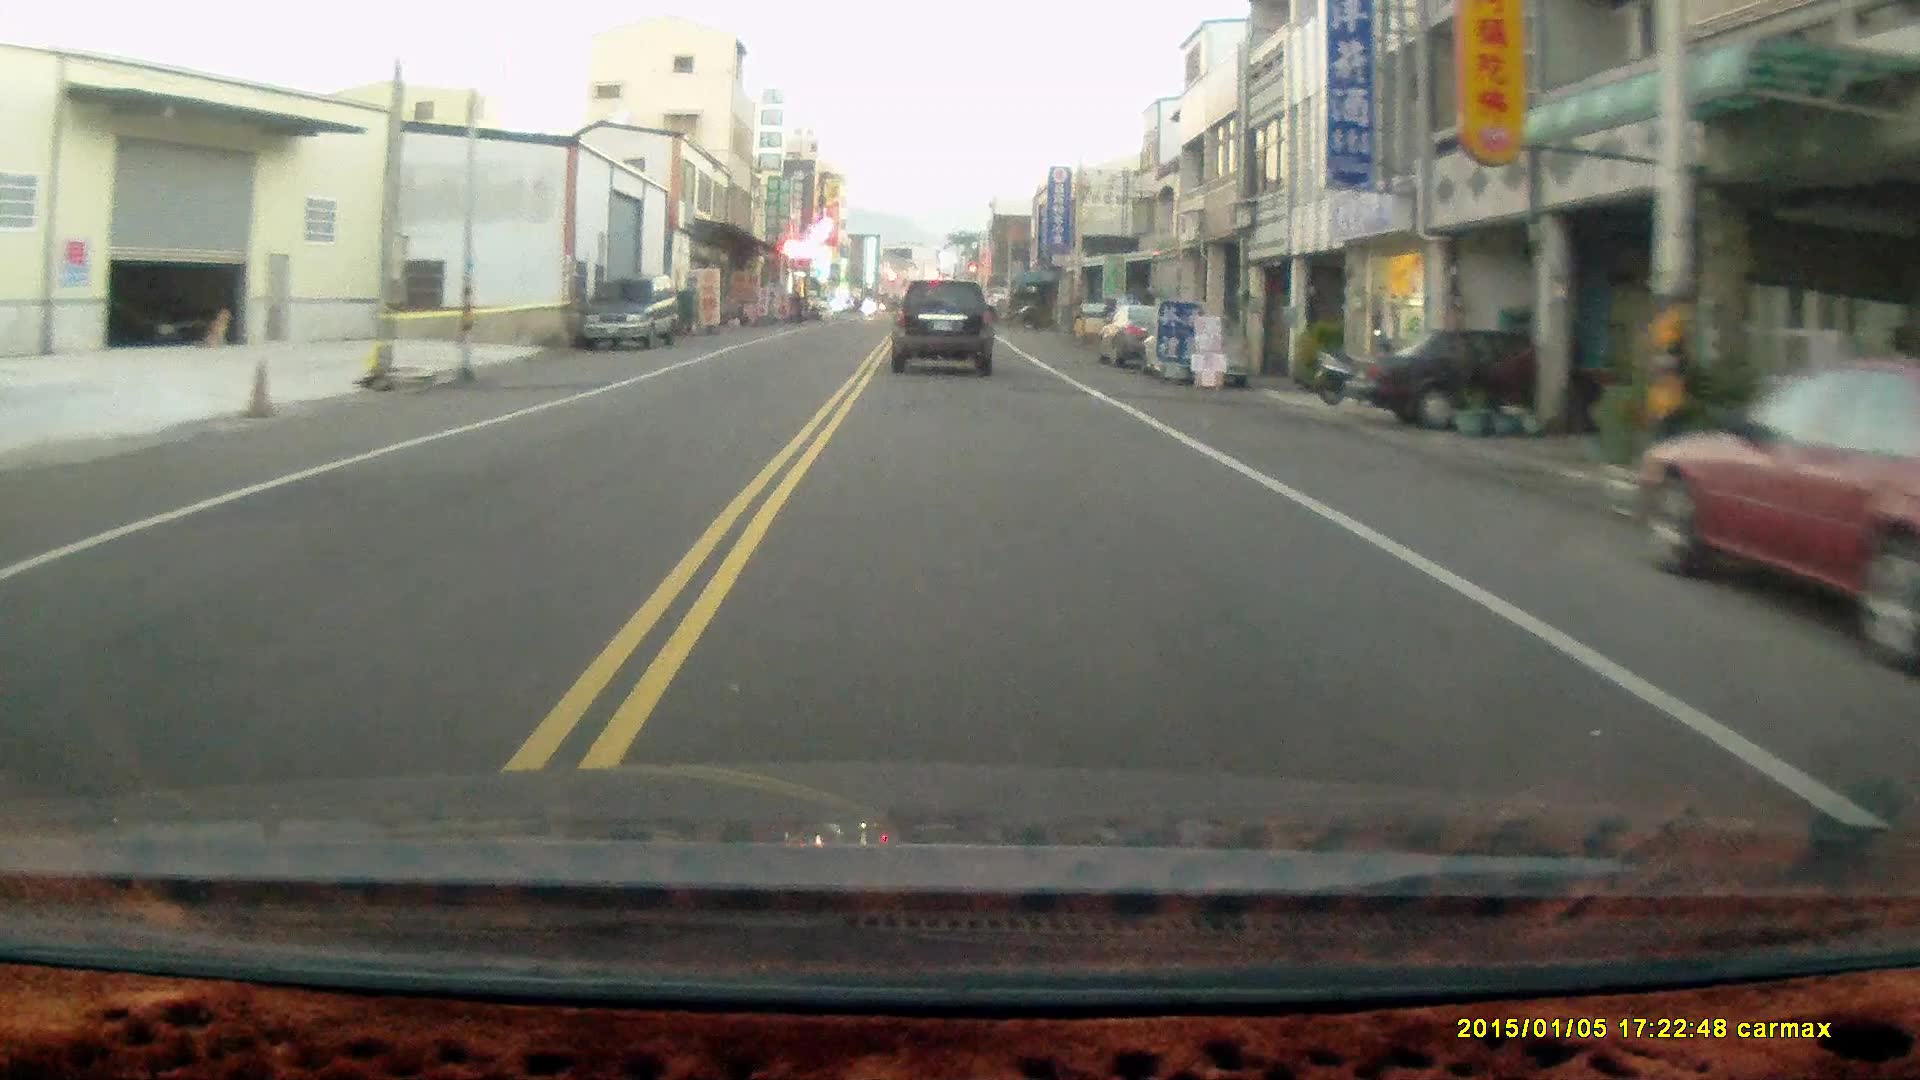vehicle: (1633, 349, 1920, 642), (1345, 327, 1654, 427), (890, 278, 996, 377), (583, 273, 684, 353)
